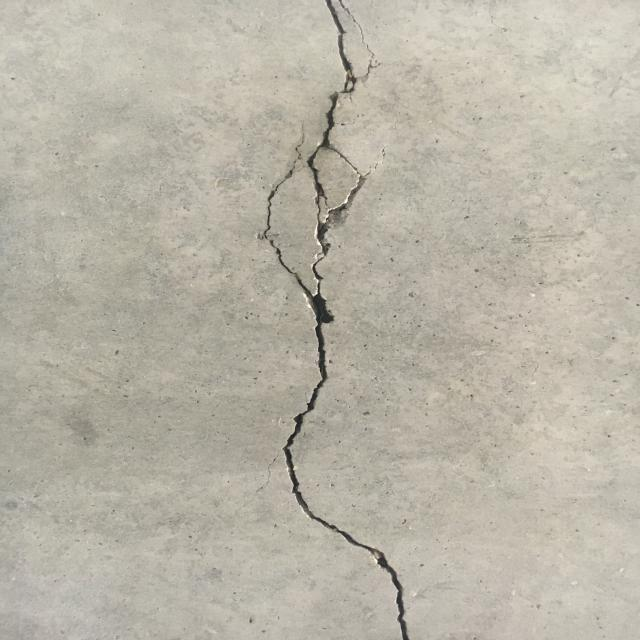SurfaceCrack: (236, 0, 440, 639)
